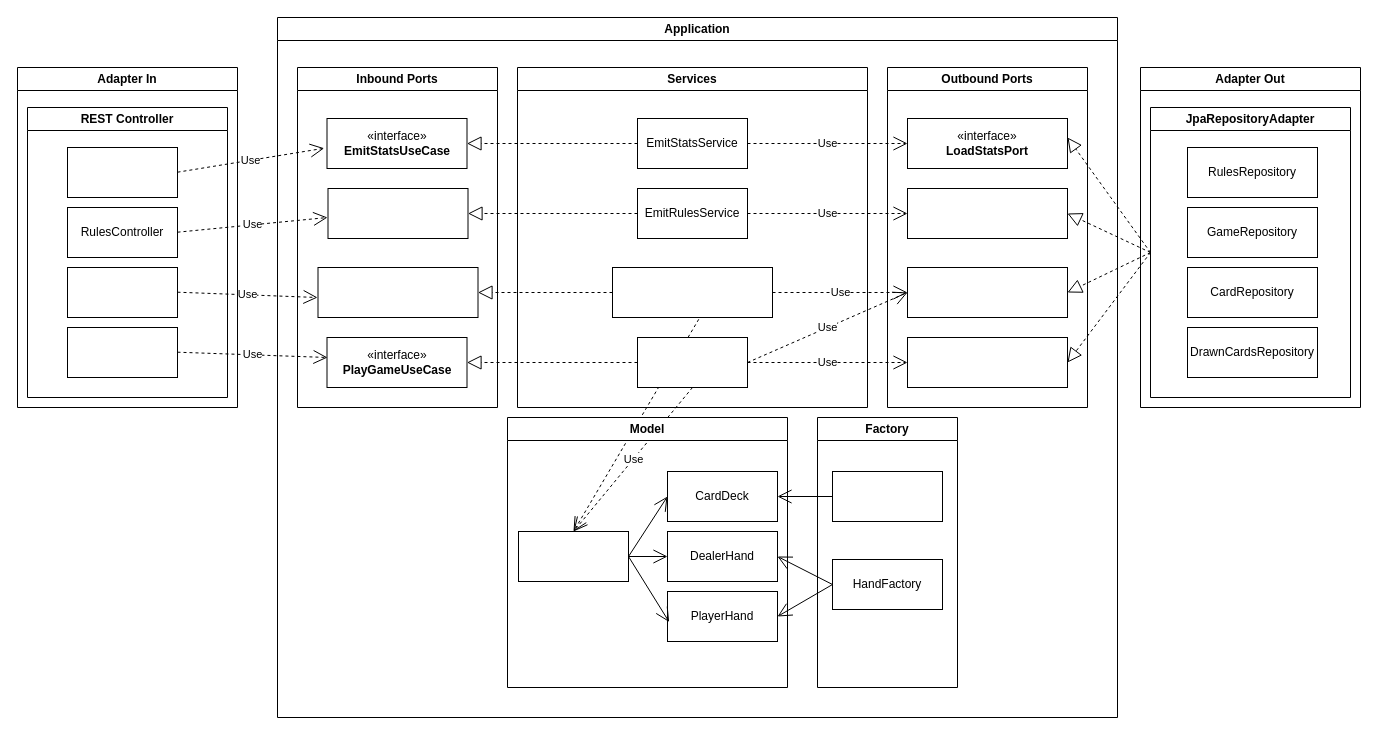
Image size: 1378x735. Some labels were removed from this diagram. Each missing label, with the centre of its shape:
CalculateChancesService: the point at 692,292
CardDeckFactory: the point at 887,496
ChancesController: the point at 122,292
Game: the point at 573,556
GameController: the point at 122,352
PlayGameService: the point at 692,362
StatsController: the point at 122,172
«interface» CalculateChancesUseCase: the point at 397,292
«interface» EmitRulesUseCase: the point at 397,213
«interface» LoadGamePort: the point at 987,292
«interface» LoadRulesPort: the point at 987,213
«interface» ModifyGameStatePort: the point at 987,362
